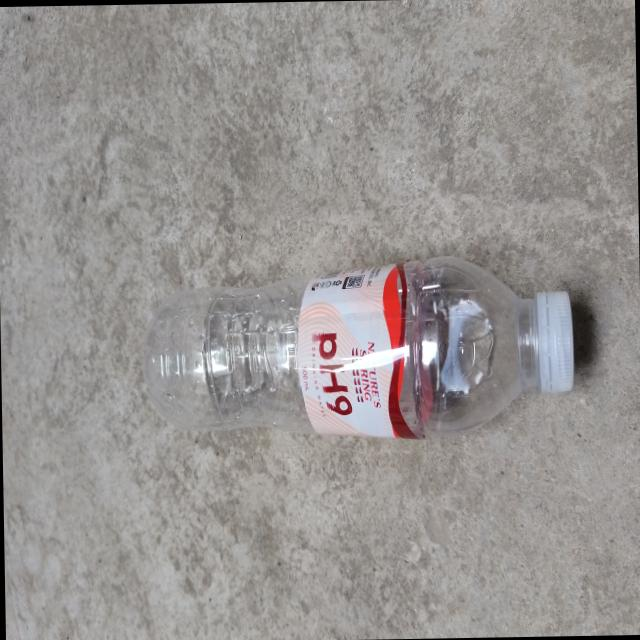Bottle: (136, 255, 580, 439)
